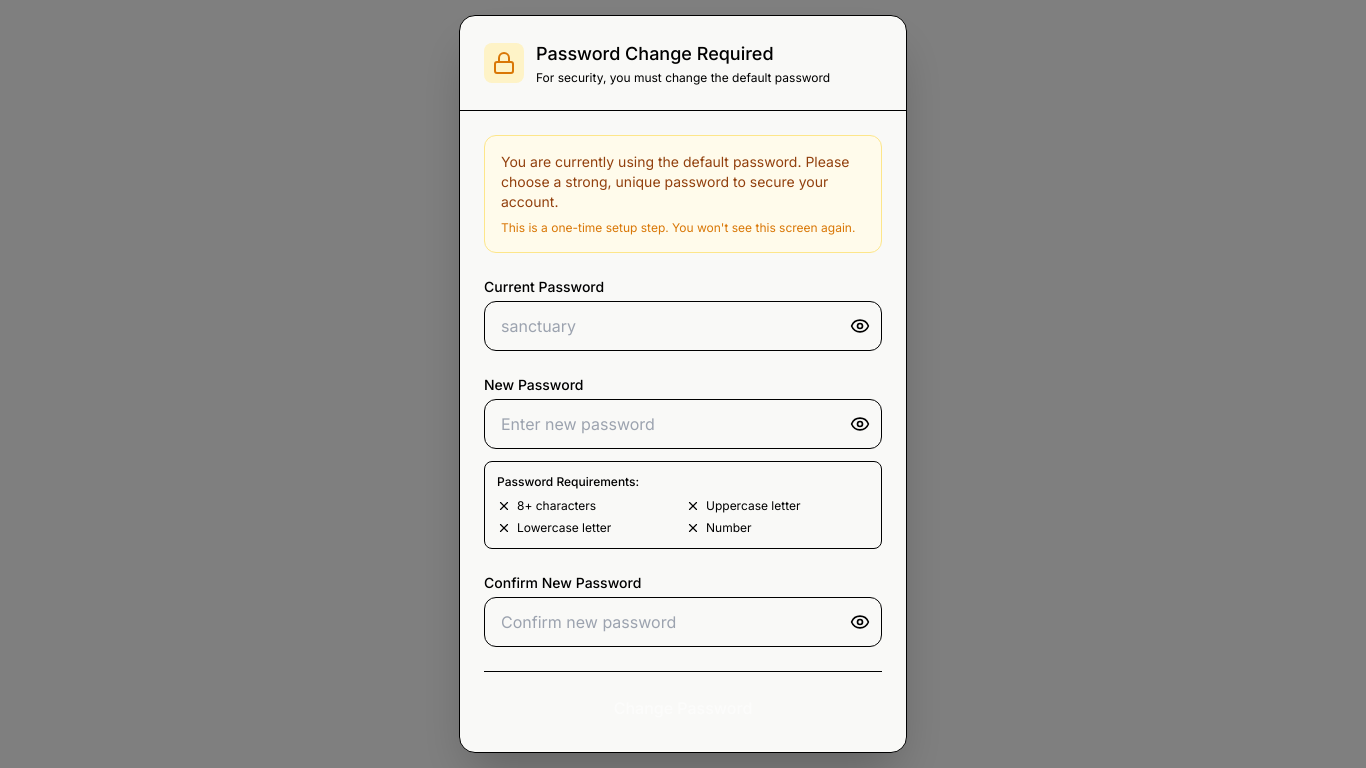
Test: ChangePasswordModal › password match indicator › shows match indicator when passwords match
Type "Password1" into the password field with placeholder "Enter new password" at (683, 424), box top-left (484, 399), bottom-right (882, 449)
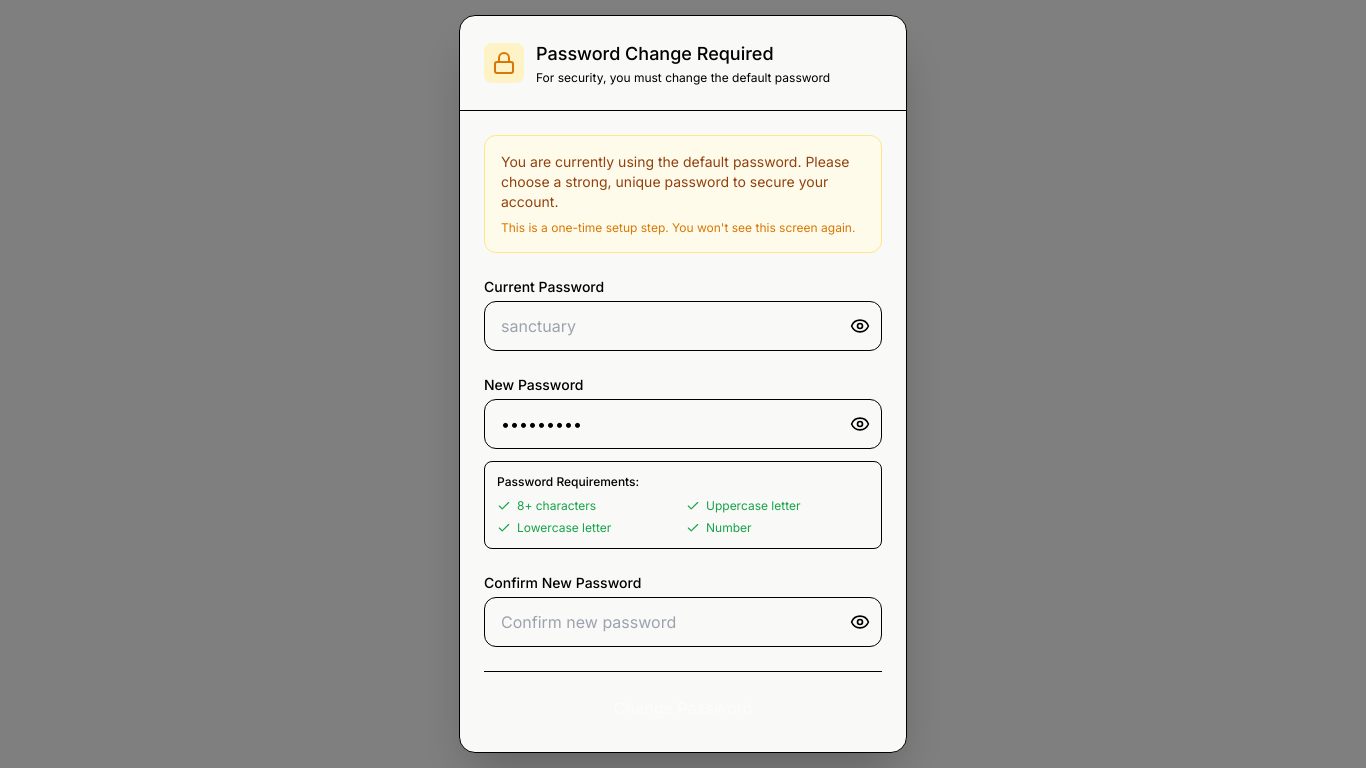
Type "Password1" into the password field with placeholder "Confirm new password" at (683, 622), box top-left (484, 597), bottom-right (882, 647)
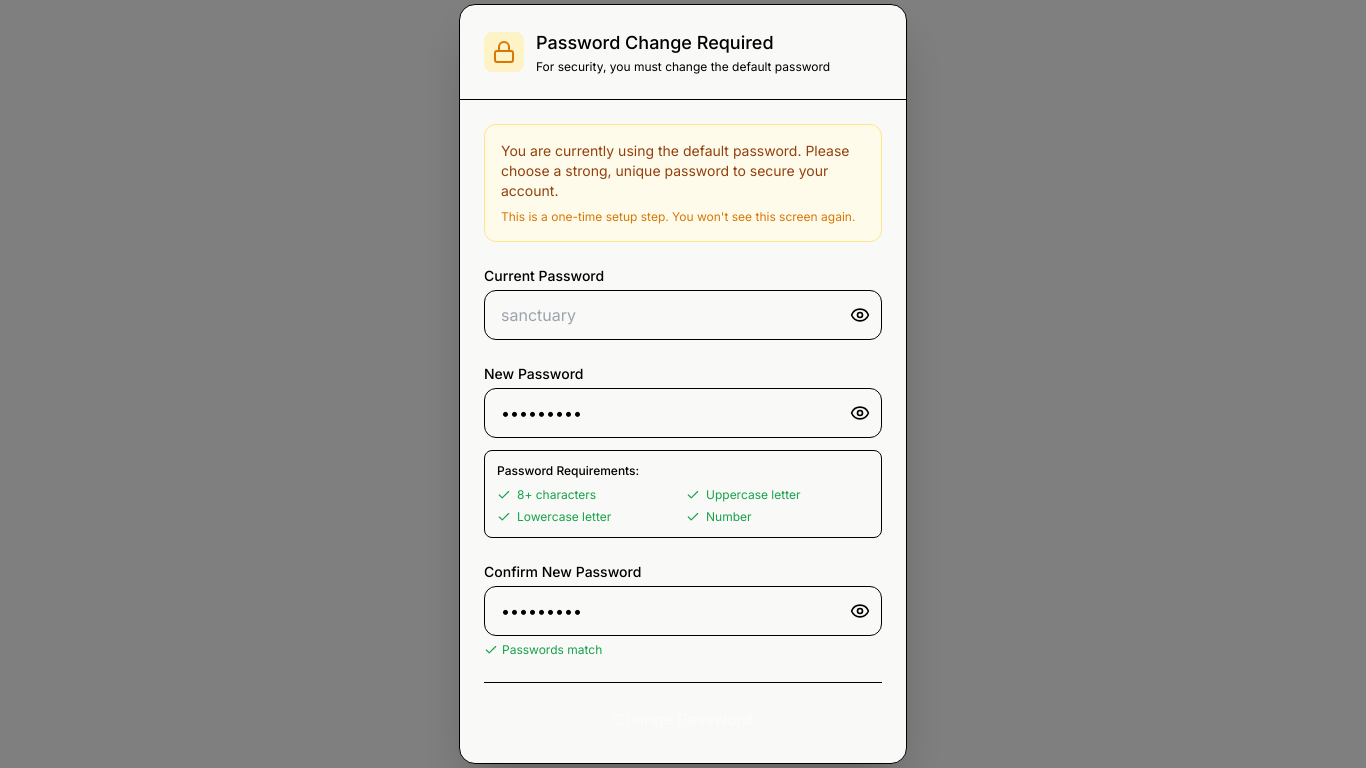
Result: the text "Passwords match" is shown at top-left (502, 642), bottom-right (602, 658)
